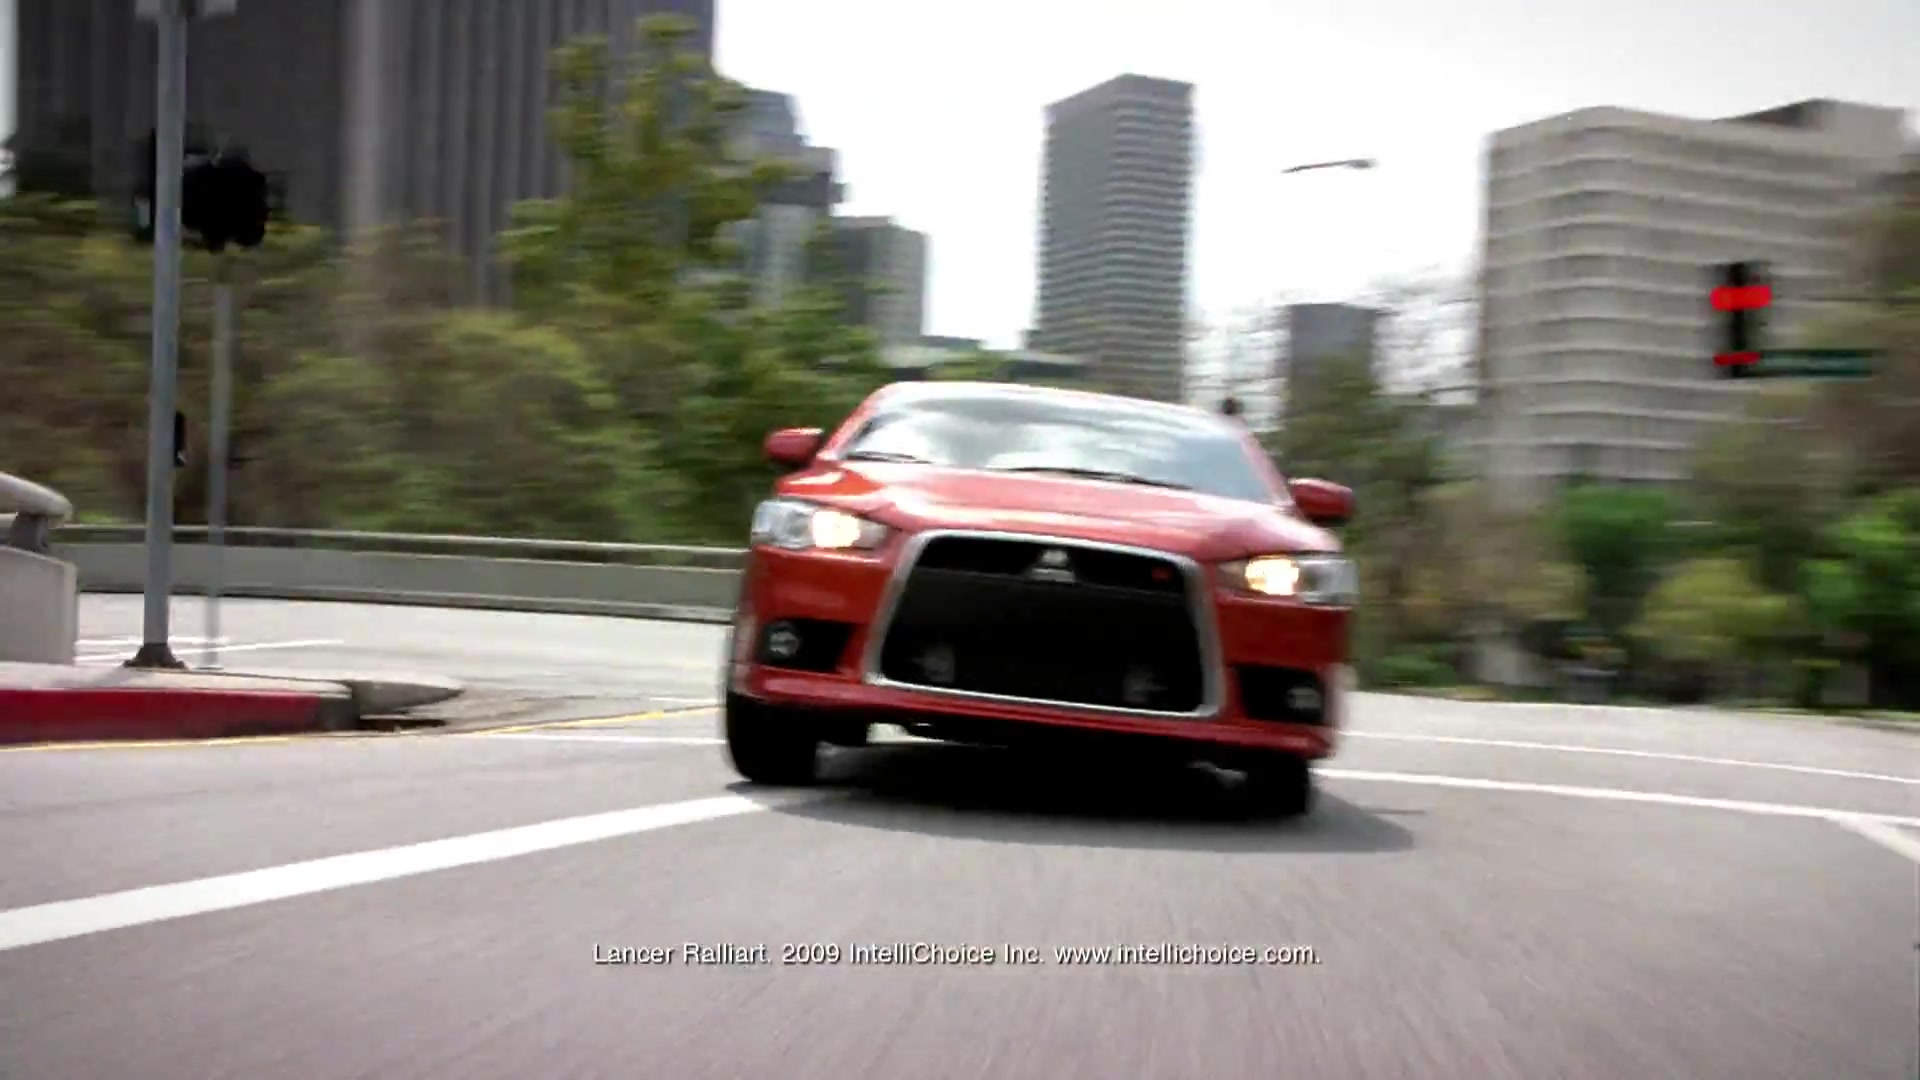car: (727, 371, 1364, 818)
